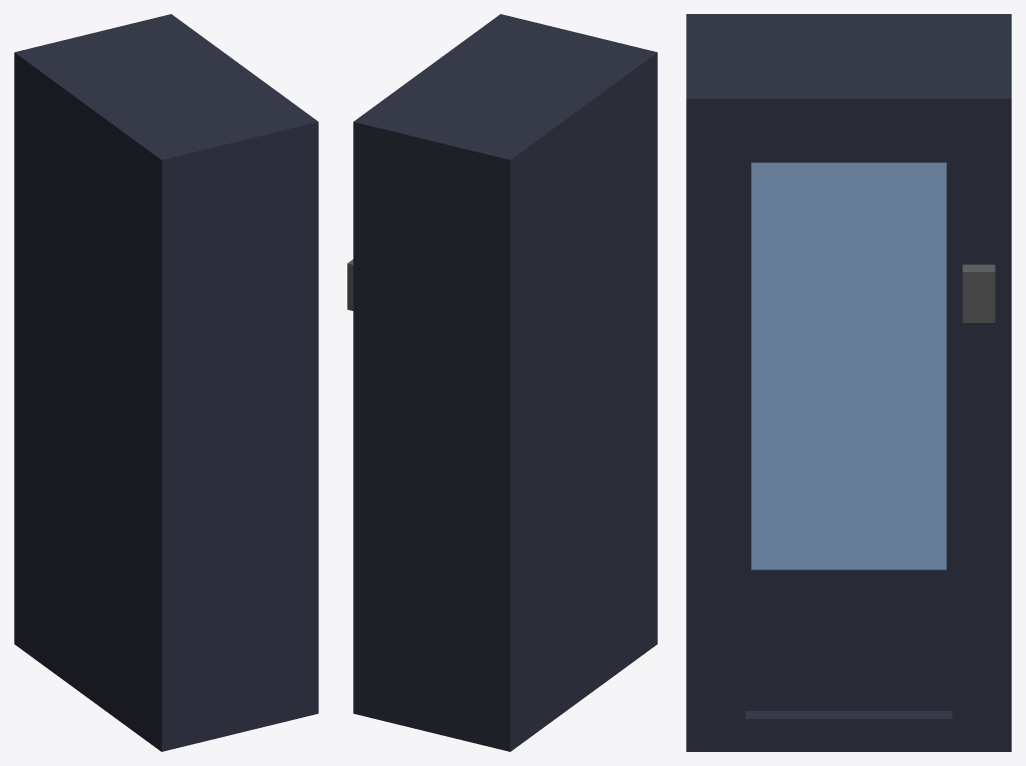
Rendered from Vending.fbx.
3 views of the same model, side by side, from view 1: azimuth 30°, elevation 25°; view 2: azimuth 150°, elevation 25°; view 3: azimuth 270°, elevation 25° (orthographic). The views are drawn at different scales.
Visible parts, largest first — view 1: Box; view 2: Box; view 3: Box, Glas.
Part boxes in pixels (x1,y1,x2,y2): Box: (14,14,318,751); Box: (347,14,657,751); Box: (686,14,1011,751); Glas: (751,162,946,569).
Size of the model in its own units: 217 by 720 by 325.
